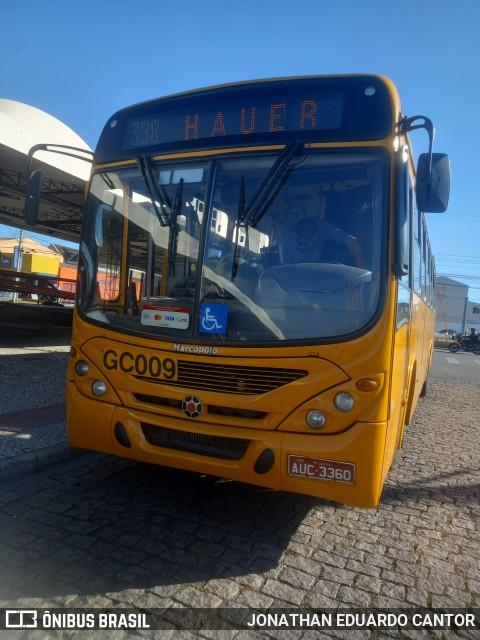HAUER: (171, 94, 323, 146)
